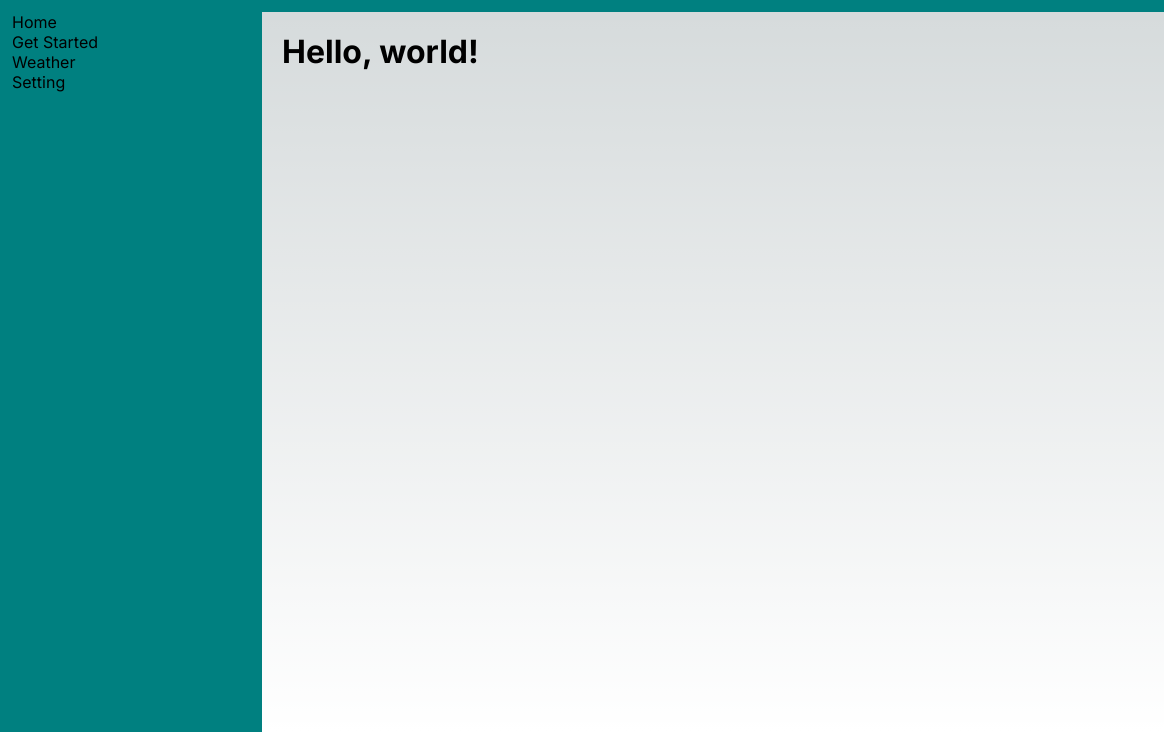
navigation › getstarted navigation
The width and height of the screenshot is (1164, 732).
What coordinates should you click on to do the following:
click the link "Get Started"
I would click on:
 (55, 42)
Its box is [12,32,98,52].
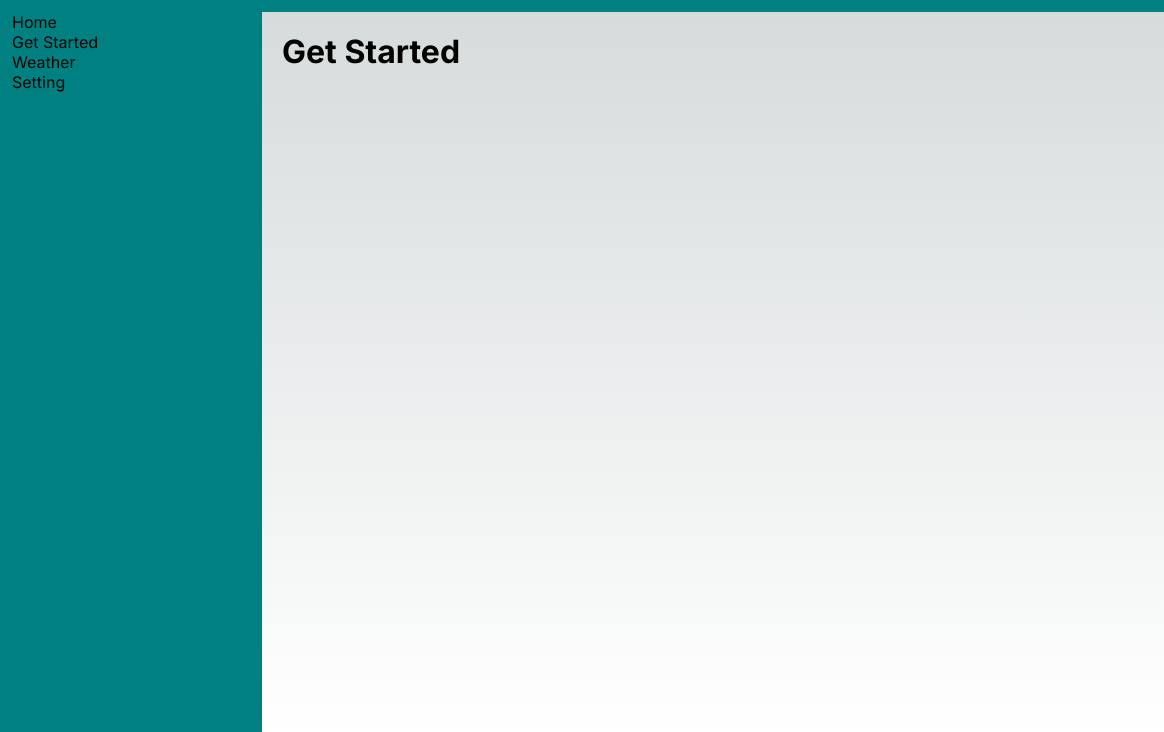
Result: the heading "Get Started" is shown at [282,32,460,71]
